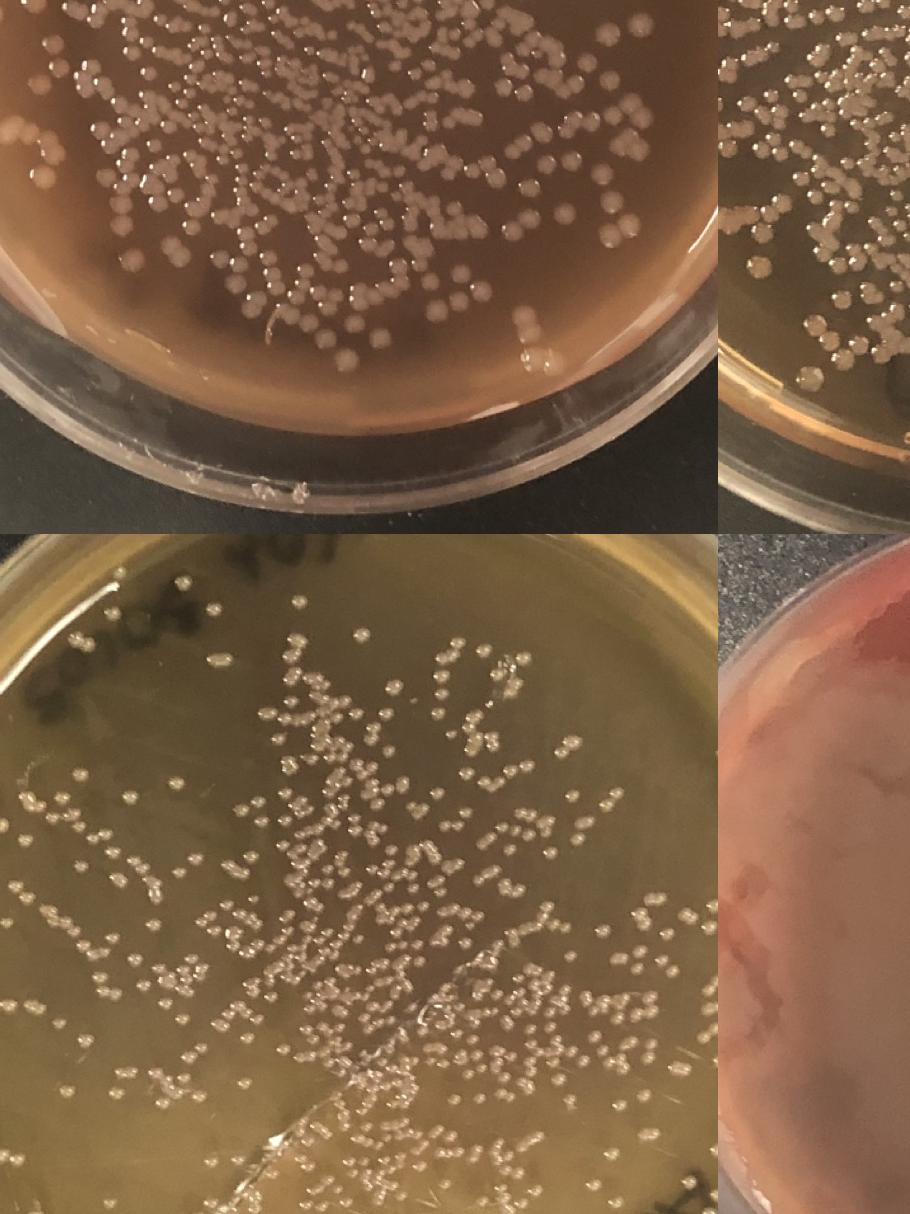assalmonicida: (312, 920, 365, 952), (68, 925, 112, 963), (250, 924, 294, 956), (364, 844, 398, 880), (176, 952, 210, 987), (628, 988, 660, 1024), (454, 1049, 488, 1082), (93, 970, 123, 1001), (516, 1054, 538, 1095), (298, 1020, 330, 1048), (501, 757, 538, 780), (348, 756, 380, 782), (221, 858, 252, 882), (258, 706, 294, 726), (234, 908, 264, 932), (303, 750, 338, 768), (564, 1045, 591, 1068), (340, 1152, 374, 1170), (143, 874, 162, 906), (655, 954, 680, 978), (588, 1030, 610, 1056), (463, 908, 484, 934), (66, 807, 86, 834), (84, 827, 112, 846), (193, 910, 217, 930), (697, 1022, 718, 1044), (438, 900, 461, 920), (632, 908, 651, 932), (320, 862, 335, 891), (548, 916, 572, 934), (493, 1087, 518, 1104), (364, 720, 380, 746), (334, 1006, 348, 1034), (642, 1038, 656, 1066), (23, 797, 46, 814), (701, 974, 718, 997), (476, 832, 497, 850), (642, 892, 668, 906), (226, 927, 240, 953), (490, 1044, 504, 1070), (486, 730, 501, 754), (456, 764, 476, 782), (166, 774, 186, 792), (120, 788, 140, 806), (678, 908, 699, 925), (434, 650, 459, 664), (281, 756, 296, 778), (281, 692, 300, 709), (640, 1126, 662, 1140), (268, 730, 288, 745), (575, 814, 595, 829), (608, 951, 628, 966), (203, 1152, 219, 1170), (338, 1194, 354, 1212), (514, 806, 536, 819), (289, 594, 309, 608), (280, 672, 300, 686), (551, 746, 571, 760), (430, 786, 450, 800), (578, 990, 594, 1007), (300, 1158, 317, 1174), (636, 1086, 652, 1102), (230, 1152, 246, 1168), (10, 1152, 26, 1168), (682, 1174, 698, 1190), (585, 1176, 601, 1192), (437, 1176, 453, 1192), (393, 1188, 409, 1204), (315, 1198, 331, 1214), (204, 604, 222, 618), (616, 1060, 632, 1075), (604, 1146, 620, 1161), (400, 978, 415, 993), (546, 1054, 560, 1070), (611, 1098, 627, 1112), (412, 1158, 428, 1172), (607, 1194, 623, 1208), (203, 1194, 219, 1208), (297, 1198, 313, 1212), (278, 787, 292, 802), (188, 851, 202, 866), (74, 859, 88, 874), (409, 937, 423, 952), (702, 1001, 716, 1016), (475, 1194, 490, 1208), (434, 668, 448, 682), (386, 680, 400, 694), (435, 686, 449, 700), (337, 696, 351, 710), (396, 778, 410, 792), (56, 792, 70, 806), (251, 796, 265, 810), (370, 798, 384, 812), (18, 834, 32, 848), (276, 839, 290, 853), (105, 846, 119, 860), (244, 850, 258, 864), (126, 854, 140, 868), (338, 866, 352, 880), (171, 866, 185, 880), (406, 881, 420, 895), (434, 885, 448, 899), (246, 892, 260, 906), (220, 898, 234, 912), (540, 899, 554, 913), (417, 899, 431, 913), (374, 902, 388, 916), (147, 918, 161, 932), (660, 928, 674, 942), (105, 931, 119, 945), (458, 936, 472, 950), (633, 944, 647, 958), (562, 952, 576, 966), (128, 953, 142, 967), (412, 954, 426, 968), (151, 960, 165, 974), (629, 962, 643, 976), (511, 974, 525, 988), (559, 984, 573, 998), (265, 991, 279, 1005), (158, 996, 172, 1010), (222, 1008, 236, 1022), (250, 1012, 264, 1026), (174, 1012, 188, 1026), (50, 1016, 64, 1030), (524, 1020, 538, 1034), (624, 1034, 638, 1048), (464, 1034, 478, 1048), (78, 1034, 92, 1048), (524, 1038, 538, 1052), (195, 1041, 209, 1055), (276, 1044, 290, 1058), (506, 1050, 520, 1064), (322, 1056, 336, 1070), (61, 1084, 75, 1098), (192, 1088, 206, 1102), (562, 1092, 576, 1106), (155, 1098, 169, 1112), (331, 709, 344, 724), (380, 782, 393, 797), (45, 810, 58, 824), (503, 842, 516, 856), (305, 896, 318, 910), (705, 921, 718, 935), (382, 940, 395, 954), (489, 988, 503, 1001), (238, 1032, 251, 1046), (305, 1049, 318, 1063), (499, 1070, 512, 1084), (553, 1072, 566, 1086), (475, 1092, 488, 1106), (528, 978, 540, 993), (138, 978, 150, 993), (708, 1187, 718, 1204), (432, 706, 444, 720), (380, 707, 392, 721), (352, 708, 364, 722), (467, 710, 481, 722), (382, 744, 394, 758), (235, 803, 247, 817), (280, 814, 292, 828), (256, 814, 268, 828), (437, 820, 451, 832), (522, 828, 534, 842), (544, 846, 556, 860), (382, 881, 394, 895), (284, 908, 296, 922), (0, 915, 12, 929), (598, 924, 610, 938), (303, 1002, 315, 1016), (610, 1012, 624, 1024), (500, 1016, 512, 1030), (544, 1020, 556, 1034), (238, 1076, 250, 1090), (484, 696, 496, 709), (612, 787, 624, 800), (459, 806, 471, 819), (509, 824, 521, 837), (401, 902, 414, 914), (208, 924, 220, 937), (302, 988, 314, 1001), (444, 728, 456, 740), (566, 790, 578, 802), (453, 820, 465, 832), (495, 820, 507, 832), (540, 826, 552, 838), (571, 834, 583, 846), (289, 974, 301, 986), (247, 987, 259, 999), (360, 991, 372, 1003), (317, 1001, 329, 1013), (358, 1012, 370, 1024), (385, 1014, 397, 1026), (417, 1024, 429, 1036), (450, 1028, 462, 1040), (342, 1041, 354, 1053), (448, 1094, 460, 1106), (701, 1206, 717, 1214), (0, 817, 8, 832), (0, 1147, 8, 1162), (712, 1143, 718, 1156), (714, 1054, 718, 1068)
sinniae: (798, 313, 858, 374), (751, 130, 805, 163), (740, 254, 776, 280), (790, 366, 826, 392), (807, 4, 846, 26), (748, 218, 777, 246), (732, 90, 760, 117), (770, 189, 798, 215), (828, 287, 856, 313), (844, 238, 880, 258), (718, 138, 741, 167), (882, 189, 906, 216), (855, 0, 895, 15), (828, 256, 850, 276), (789, 170, 813, 188), (835, 29, 857, 47), (791, 87, 809, 105), (761, 87, 779, 105), (818, 122, 836, 140), (807, 188, 825, 206), (865, 214, 883, 232), (870, 56, 886, 74), (718, 93, 729, 119), (895, 2, 910, 21), (718, 2, 732, 22), (838, 156, 856, 170), (842, 200, 860, 214), (889, 279, 907, 293), (891, 219, 908, 233), (894, 84, 908, 98), (887, 130, 901, 144), (902, 48, 910, 66)
valgino: (718, 813, 742, 912)
vharveyi: (208, 224, 285, 300), (557, 92, 656, 140), (422, 263, 496, 326), (282, 285, 339, 353), (25, 58, 71, 100), (595, 212, 643, 250), (462, 154, 508, 190), (564, 50, 599, 94), (501, 207, 543, 243), (108, 188, 136, 239), (491, 75, 536, 106), (309, 282, 345, 318), (159, 232, 192, 270), (17, 123, 60, 150), (147, 186, 184, 214), (514, 29, 544, 58), (340, 309, 370, 338), (628, 12, 658, 40), (364, 328, 394, 356), (504, 133, 532, 161), (597, 188, 625, 216), (552, 200, 580, 228), (118, 246, 146, 274), (333, 346, 361, 374), (27, 163, 56, 190), (595, 22, 623, 49), (586, 159, 614, 186), (510, 306, 538, 332), (243, 289, 265, 320), (230, 147, 251, 175), (599, 68, 623, 92), (626, 140, 650, 164), (562, 147, 586, 171), (532, 154, 556, 178), (518, 176, 542, 200), (420, 271, 444, 293), (20, 0, 48, 16), (222, 9, 240, 29), (123, 42, 141, 62), (140, 62, 158, 82), (425, 74, 443, 94), (457, 80, 475, 100), (534, 126, 552, 146), (145, 136, 163, 156), (428, 144, 446, 164), (344, 210, 362, 230), (359, 234, 377, 254), (298, 260, 316, 280), (87, 12, 106, 30), (471, 222, 488, 242), (440, 114, 458, 132), (460, 17, 480, 30), (490, 18, 506, 33), (479, 0, 497, 12), (261, 0, 277, 11)
